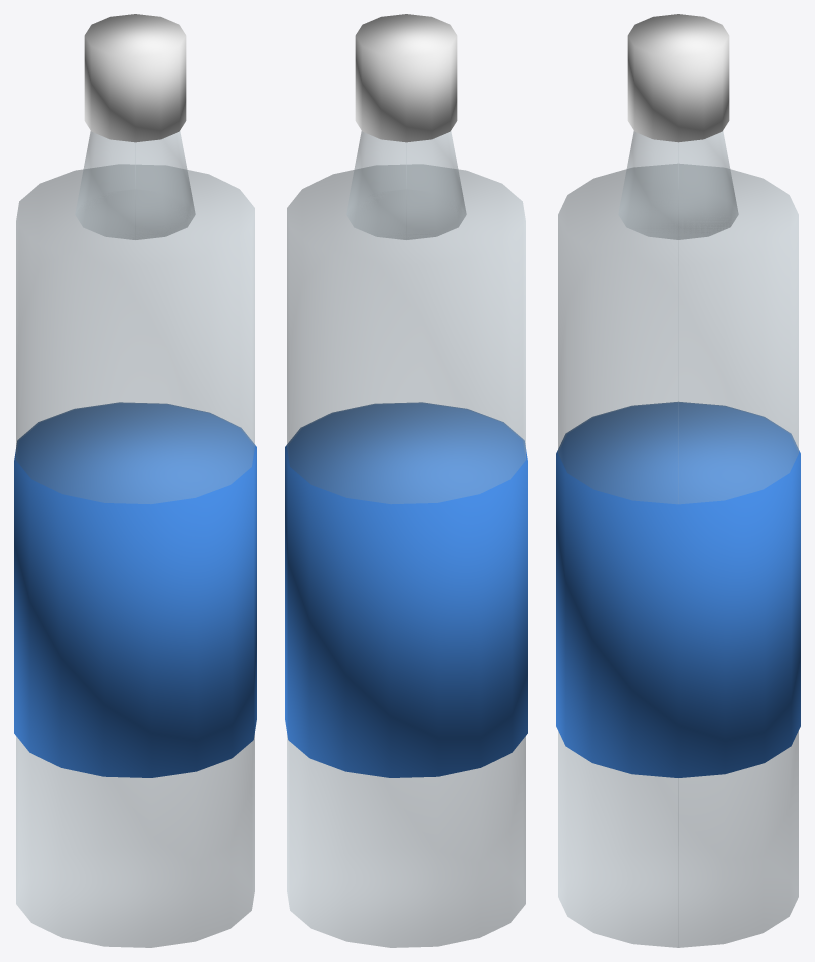
File: Prop_Water_Bottle.glb
3 views of the same model, side by side, from view 1: azimuth 30°, elevation 25°; view 2: azimuth 150°, elevation 25°; view 3: azimuth 270°, elevation 25° (orthographic).
Visible parts, largest first — view 1: Prop_Water_Bottle_Export; view 2: Prop_Water_Bottle_Export; view 3: Prop_Water_Bottle_Export.
Boxes of the visible parts, box(x1,y1,x2,y2) form: Prop_Water_Bottle_Export: box(14, 14, 256, 947); Prop_Water_Bottle_Export: box(285, 14, 527, 947); Prop_Water_Bottle_Export: box(556, 14, 800, 947).
Size of the model in its own units: 0.065 by 0.2525 by 0.065.
